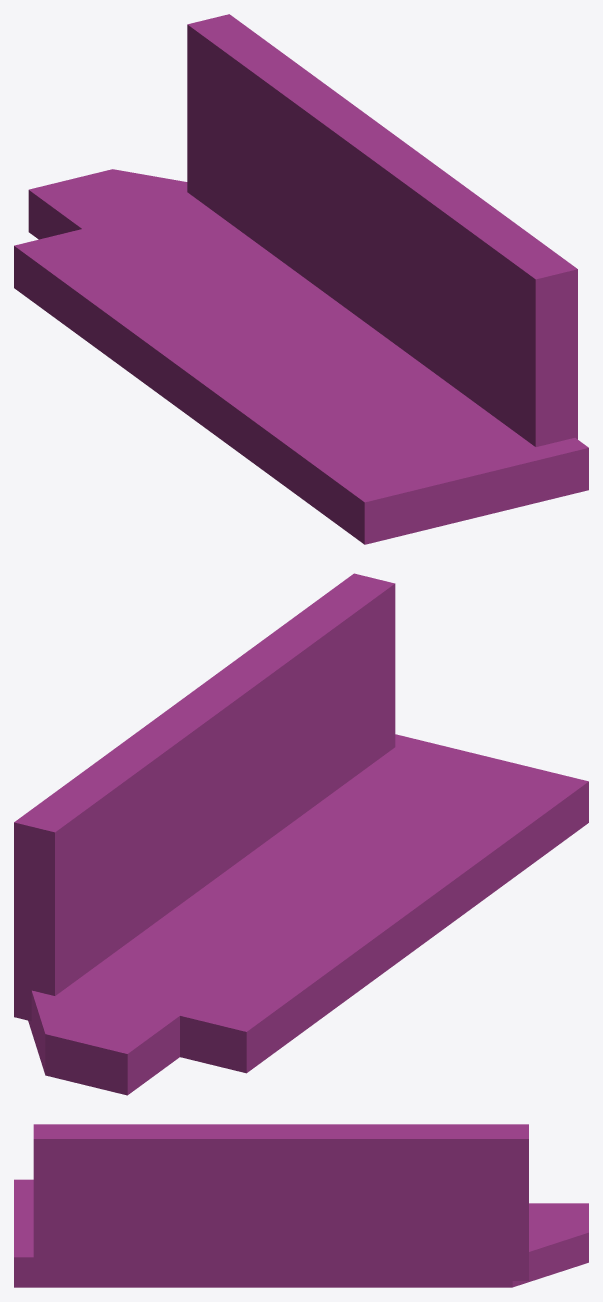
Rendered from SM_Bld_Platform_01_Collision.fbx.
3 views of the same model, one above another, from view 1: azimuth 30°, elevation 25°; view 2: azimuth 150°, elevation 25°; view 3: azimuth 270°, elevation 25° (orthographic). The views are drawn at different scales.
Parts seen in each view (by area): view 1: SM_Bld_Platform_01_Collision; view 2: SM_Bld_Platform_01_Collision; view 3: SM_Bld_Platform_01_Collision.
Boxes of the visible parts, x1,y1,x2,y2 form: SM_Bld_Platform_01_Collision: (14,14,588,544); SM_Bld_Platform_01_Collision: (14,573,588,1095); SM_Bld_Platform_01_Collision: (14,1124,588,1287).
Size of the model in its own units: 121 by 107 by 374.
